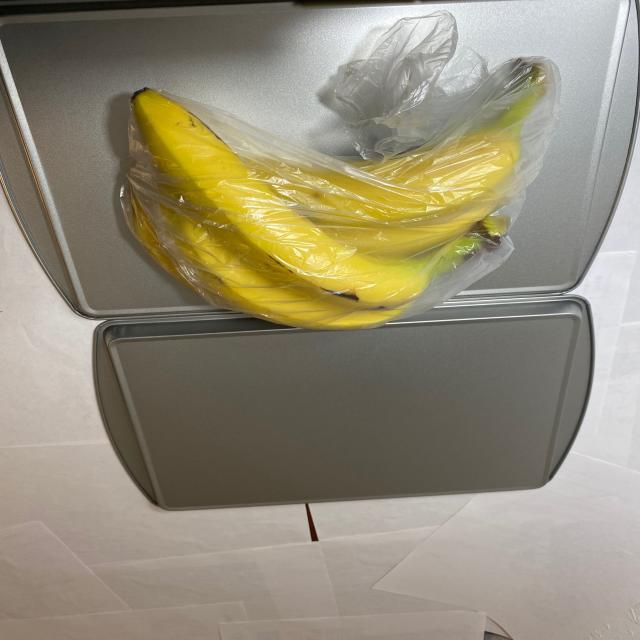banana: (110, 59, 579, 333)
